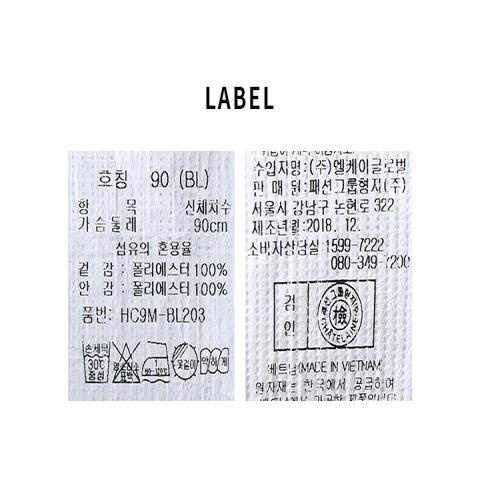DN_bleach: (112, 341, 143, 385)
hand_wash: (83, 339, 113, 385)
iron_low: (141, 341, 170, 382)
line_dry_in_shade: (171, 340, 199, 384)
wring: (200, 343, 231, 379)
